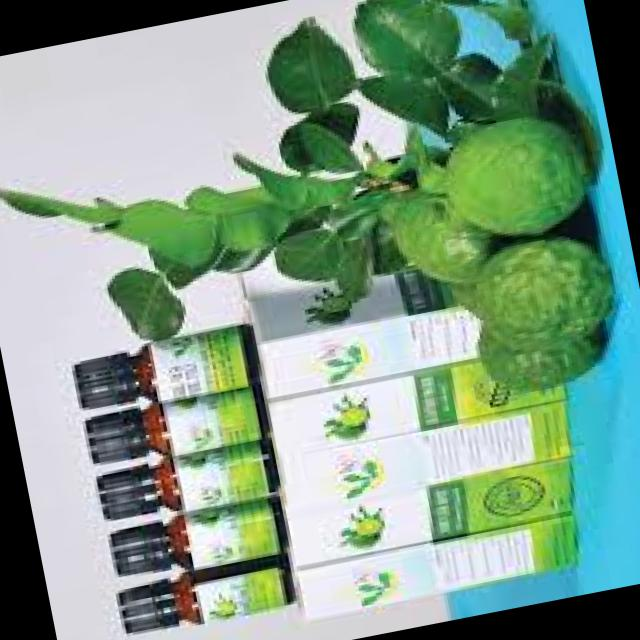Chuc: (429, 104, 602, 250), (463, 226, 619, 356), (381, 176, 502, 294), (470, 300, 609, 402)
